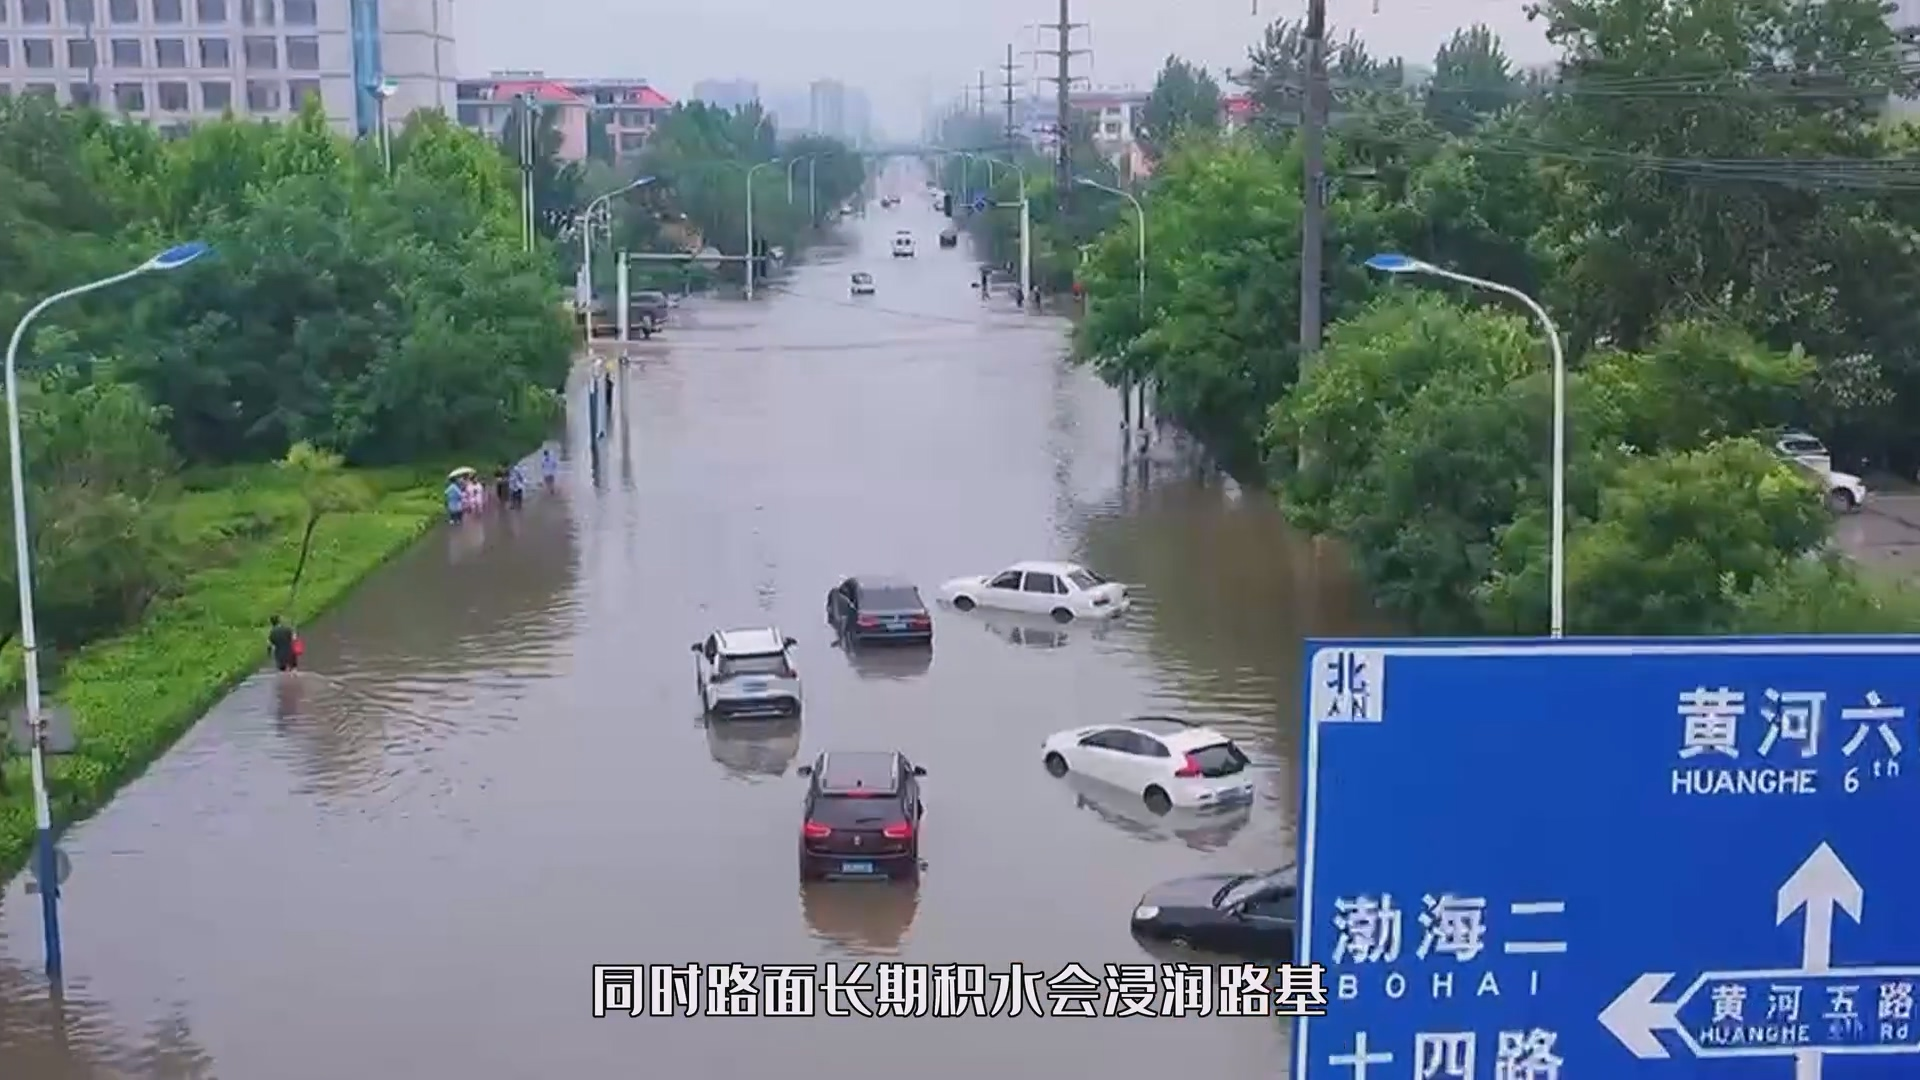puddle: (175, 375, 1299, 1080)
